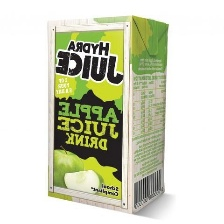carton: (42, 11, 172, 215)
